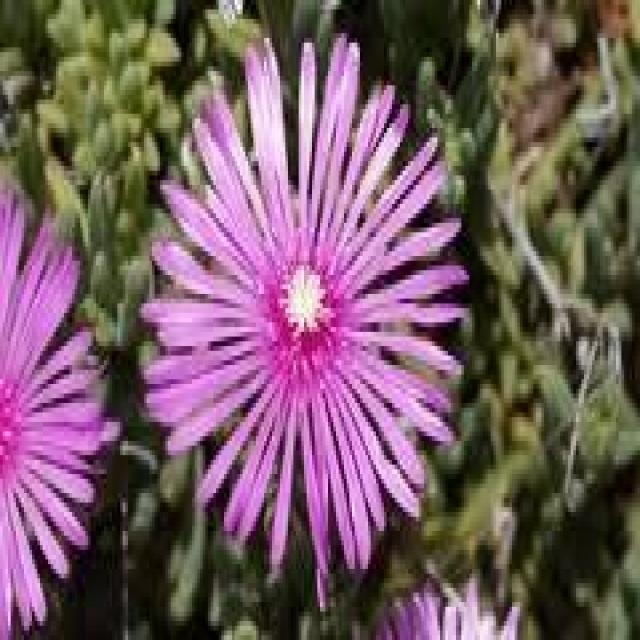organic waste: (150, 29, 462, 545), (2, 192, 106, 633)
